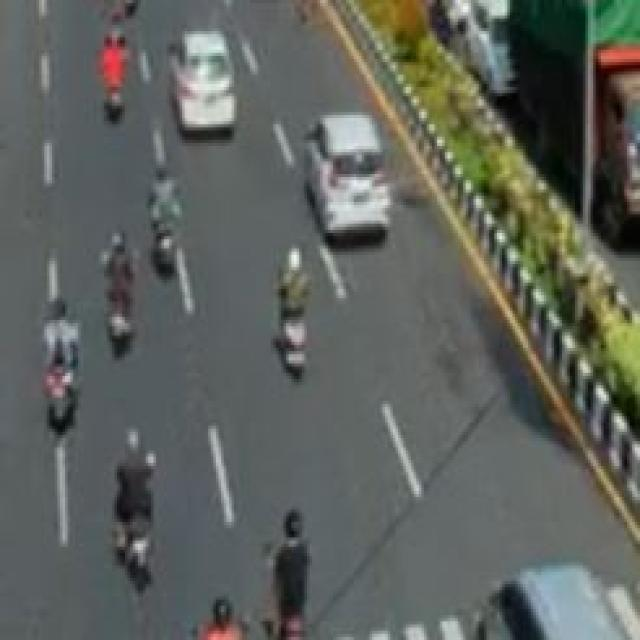car: (465, 519, 640, 640), (296, 118, 418, 234), (163, 21, 252, 159)
motorbike: (99, 417, 163, 590), (272, 224, 324, 389), (34, 293, 85, 451), (92, 242, 153, 373), (267, 497, 320, 640), (150, 168, 202, 282), (101, 23, 133, 144)
